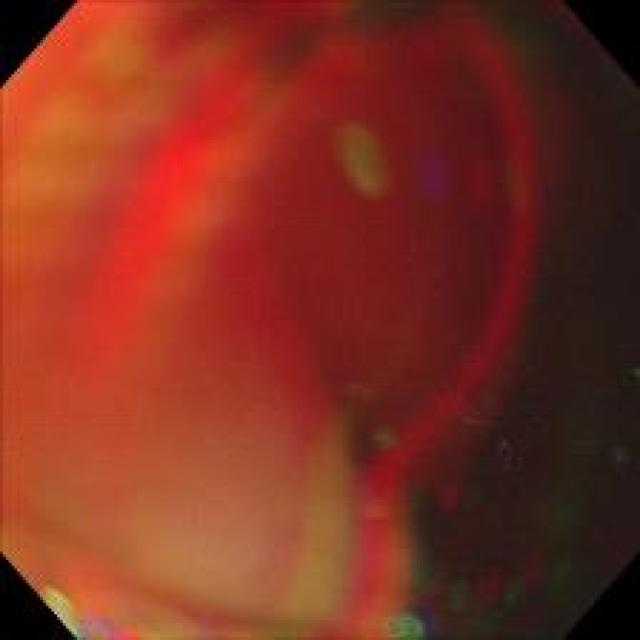color misalignment: (6, 10, 631, 631), (278, 372, 448, 621), (20, 35, 182, 256), (405, 561, 584, 629), (42, 581, 162, 635), (345, 121, 392, 206), (471, 149, 505, 225)
contrast: (410, 24, 629, 622)
